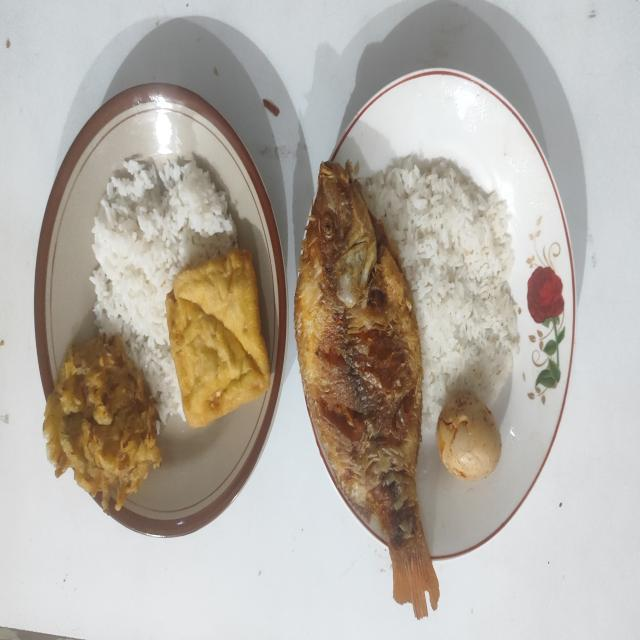ikan_mujair: (294, 162, 438, 618)
nasi_putih: (360, 154, 520, 425), (90, 156, 237, 422)
tahu_goreng: (166, 248, 270, 428)
